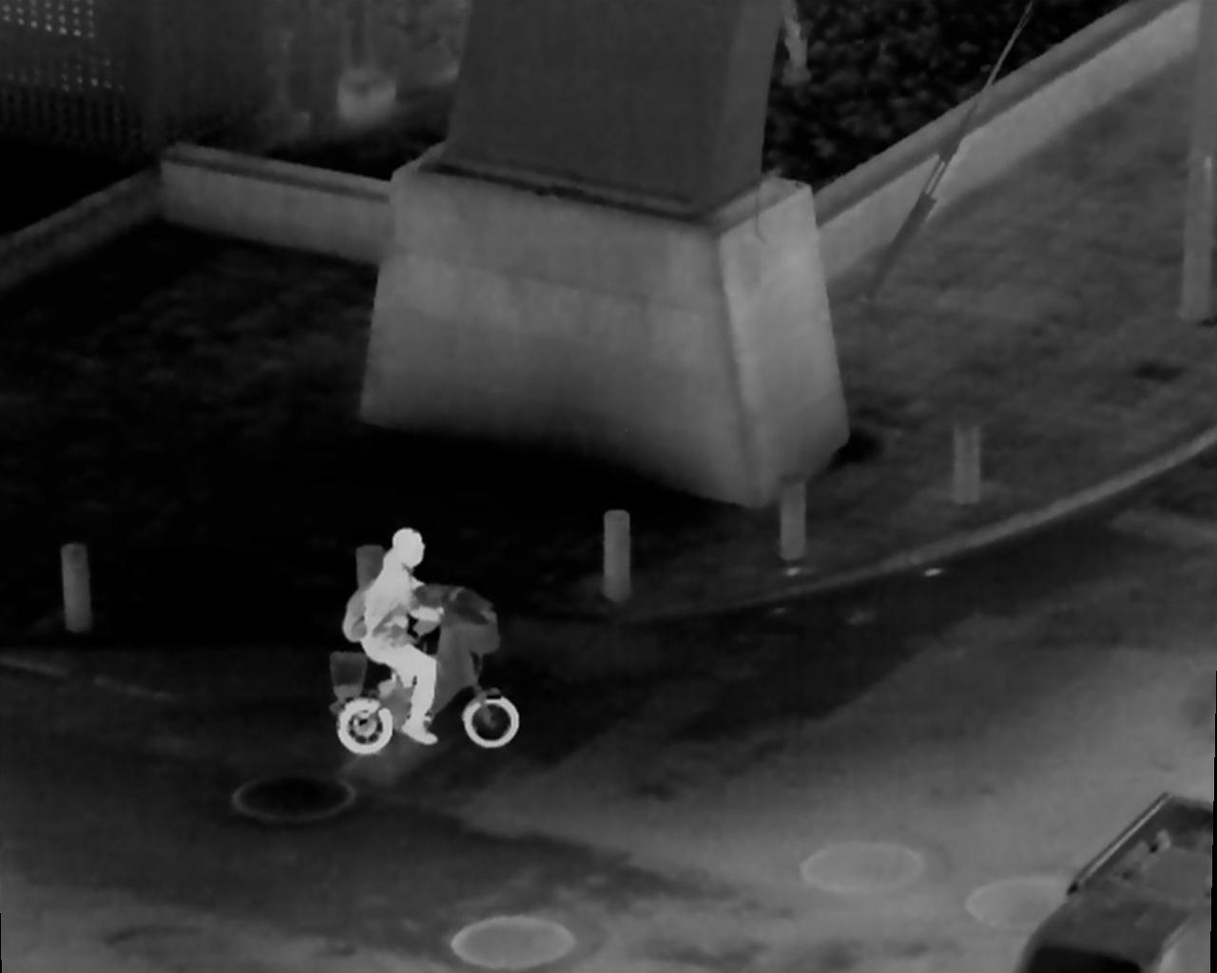person: (353, 527, 469, 733)
